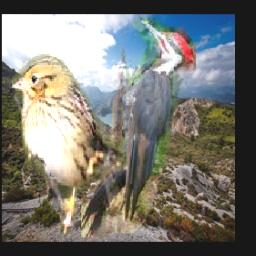Sparrow: (9, 55, 127, 236)
Woodpecker: (81, 19, 196, 238)
